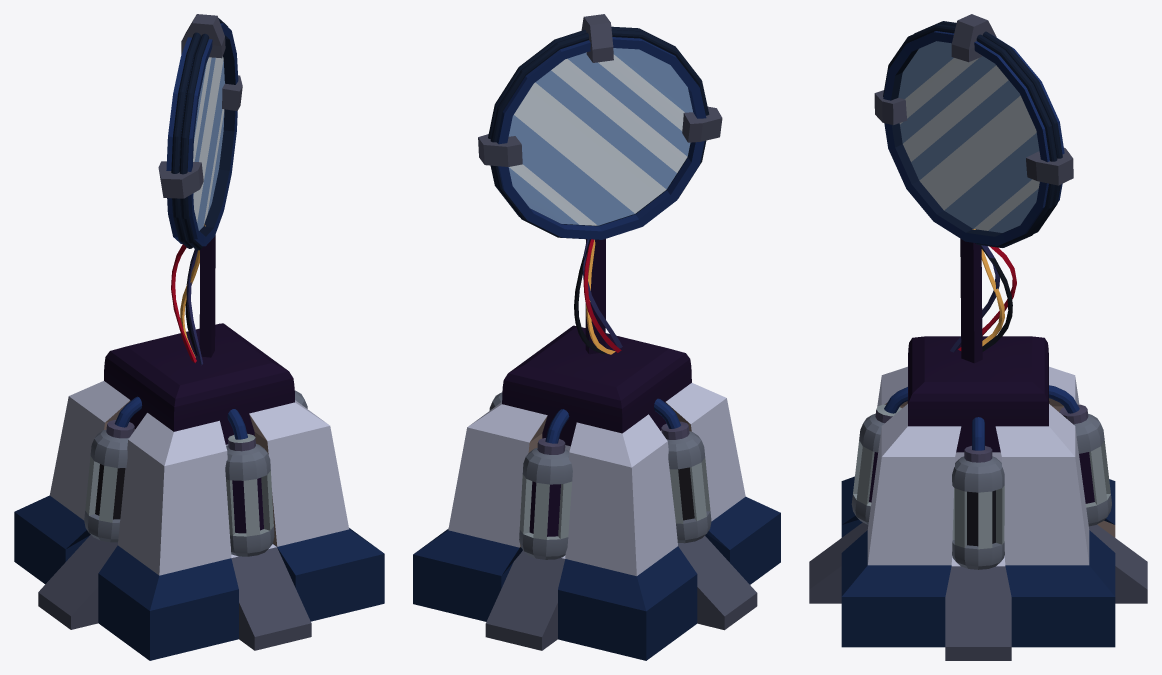
Rendered from immobile_mirror.fbx.
3 renders of one model, left to right at view 1: azimuth 30°, elevation 25°; view 2: azimuth 150°, elevation 25°; view 3: azimuth 270°, elevation 25°, orthographic.
Parts seen in each view (by area): view 1: mirror; view 2: mirror; view 3: mirror.
Boxes of the visible parts, x1,y1,x2,y2 form: mirror: [14, 14, 384, 660]; mirror: [413, 14, 780, 660]; mirror: [809, 14, 1147, 660].
Bounding box in the file's own units: 485 × 903 × 485.
